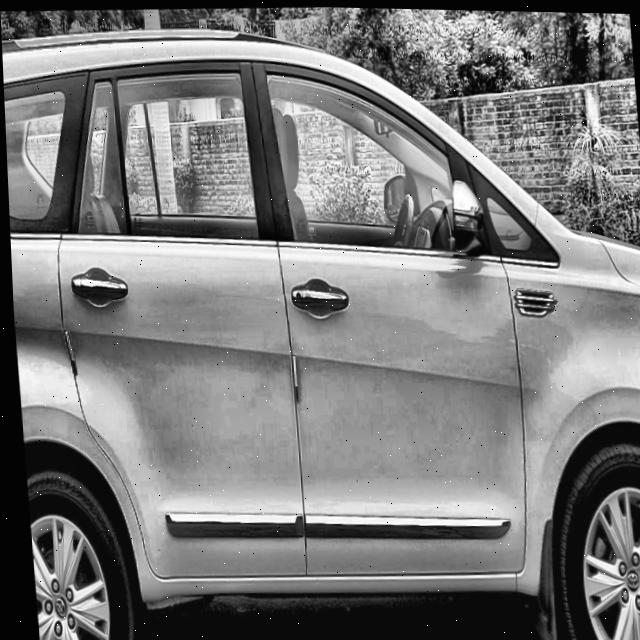light_vehicle: (0, 3, 640, 640)
